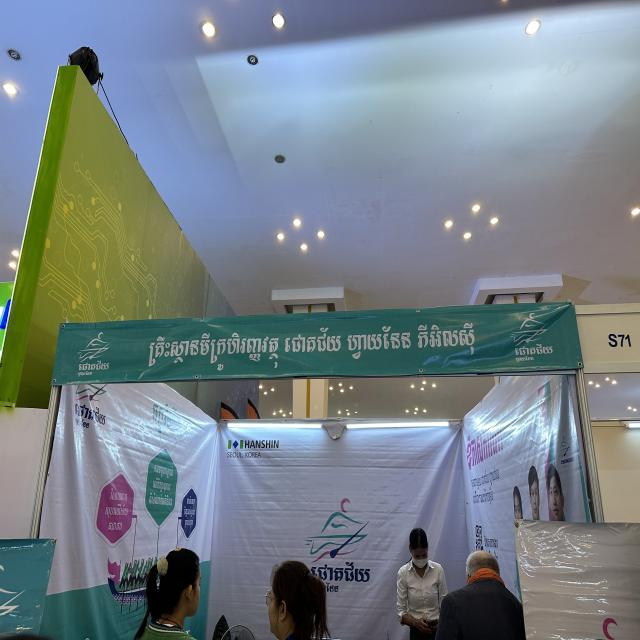3: (141, 316, 479, 372)
Yolov11kh: (509, 342, 555, 359), (75, 359, 109, 374)
